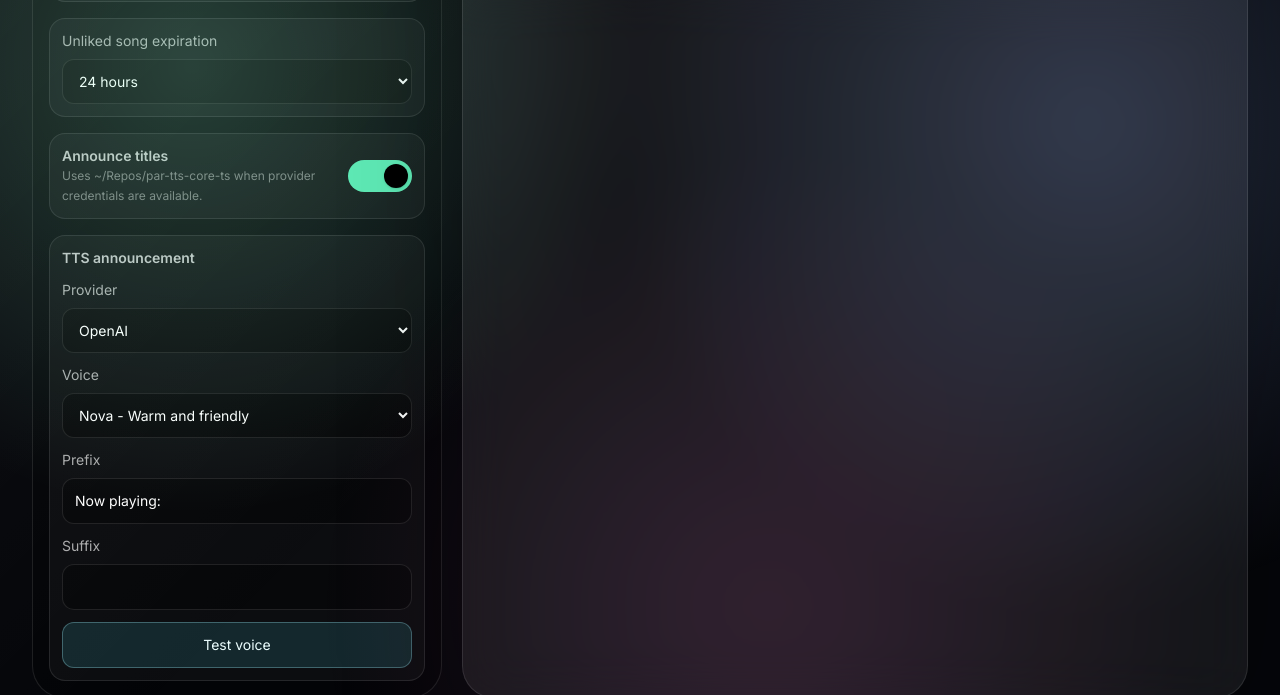
radio page loading › surfaces browser playback failures instead of reporting silent success
(page scrolled)
Click the button "Test voice" at (237, 645), box [62,622,412,668]
(page scrolled)
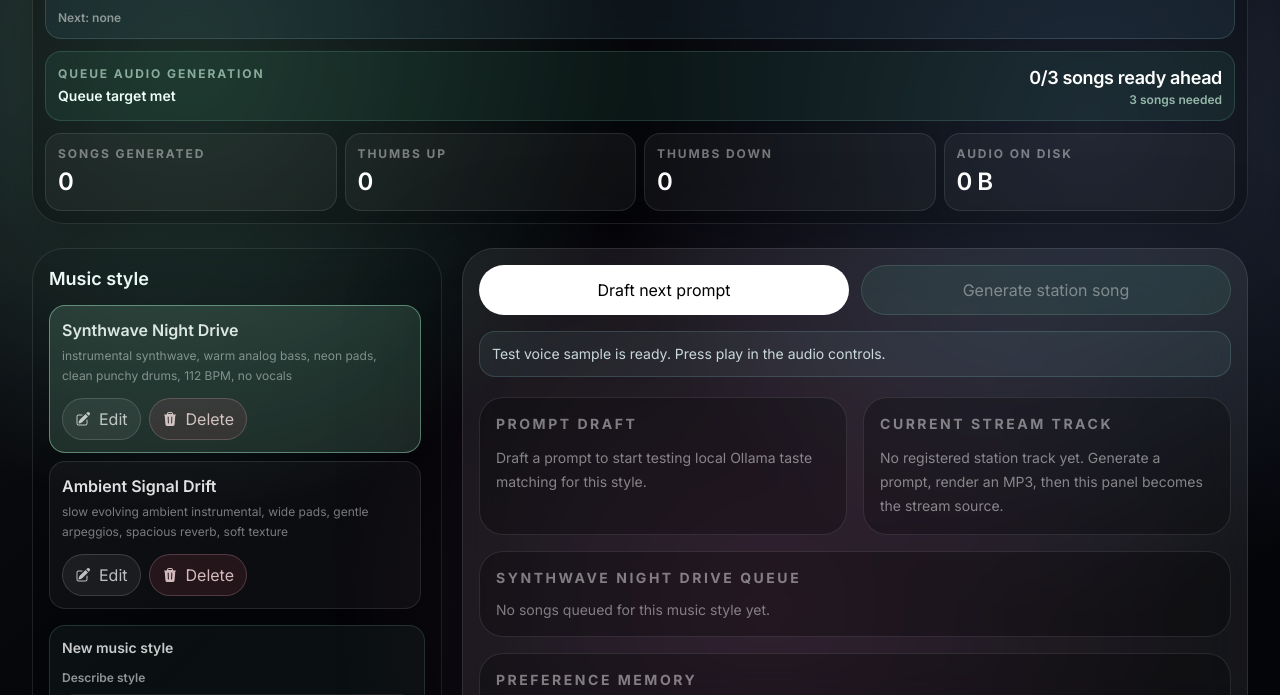
Expected: the text "Test voice sample is ready" is shown, [492,345,886,362]
